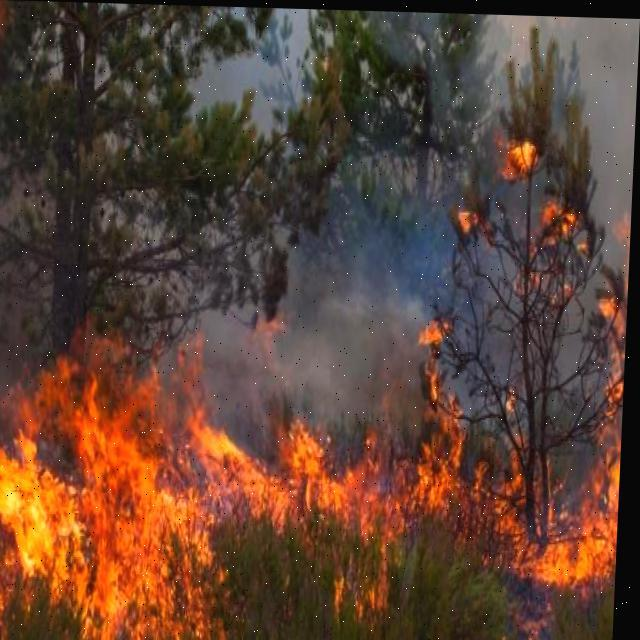Fire: (542, 185, 588, 268), (492, 101, 546, 168), (456, 194, 485, 237)
